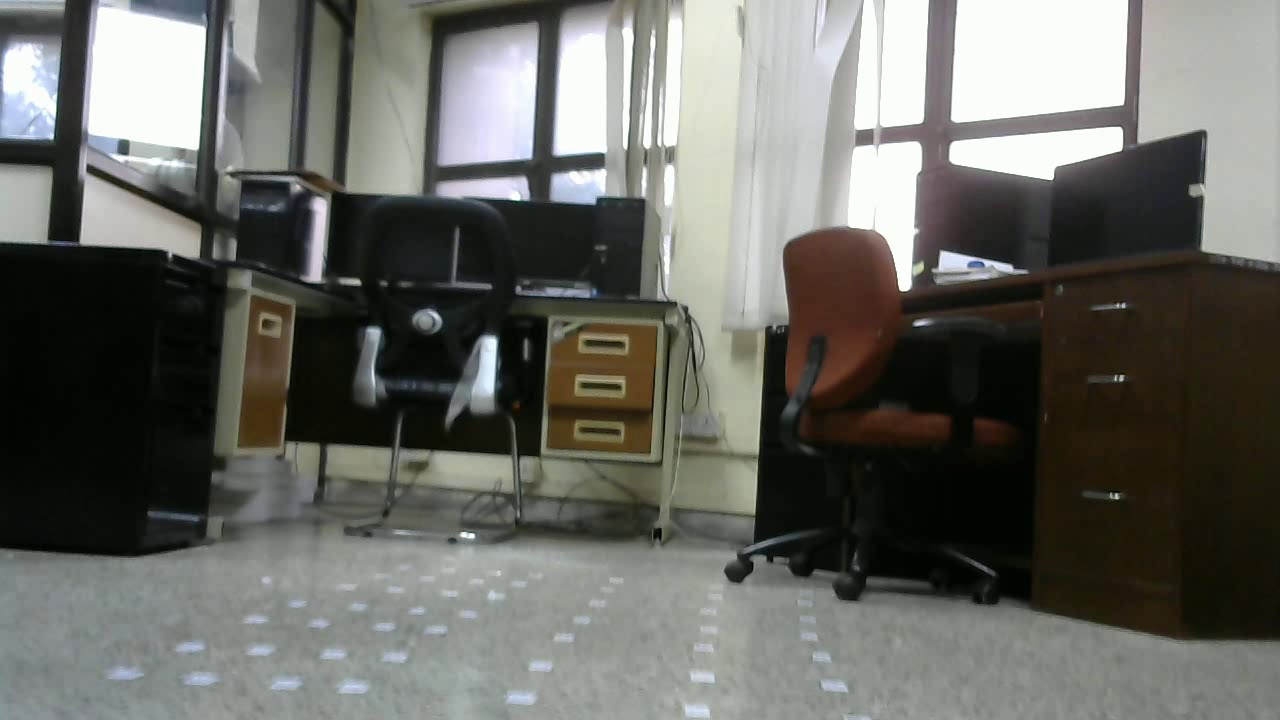chair: (718, 225, 1021, 603), (351, 196, 527, 541)
